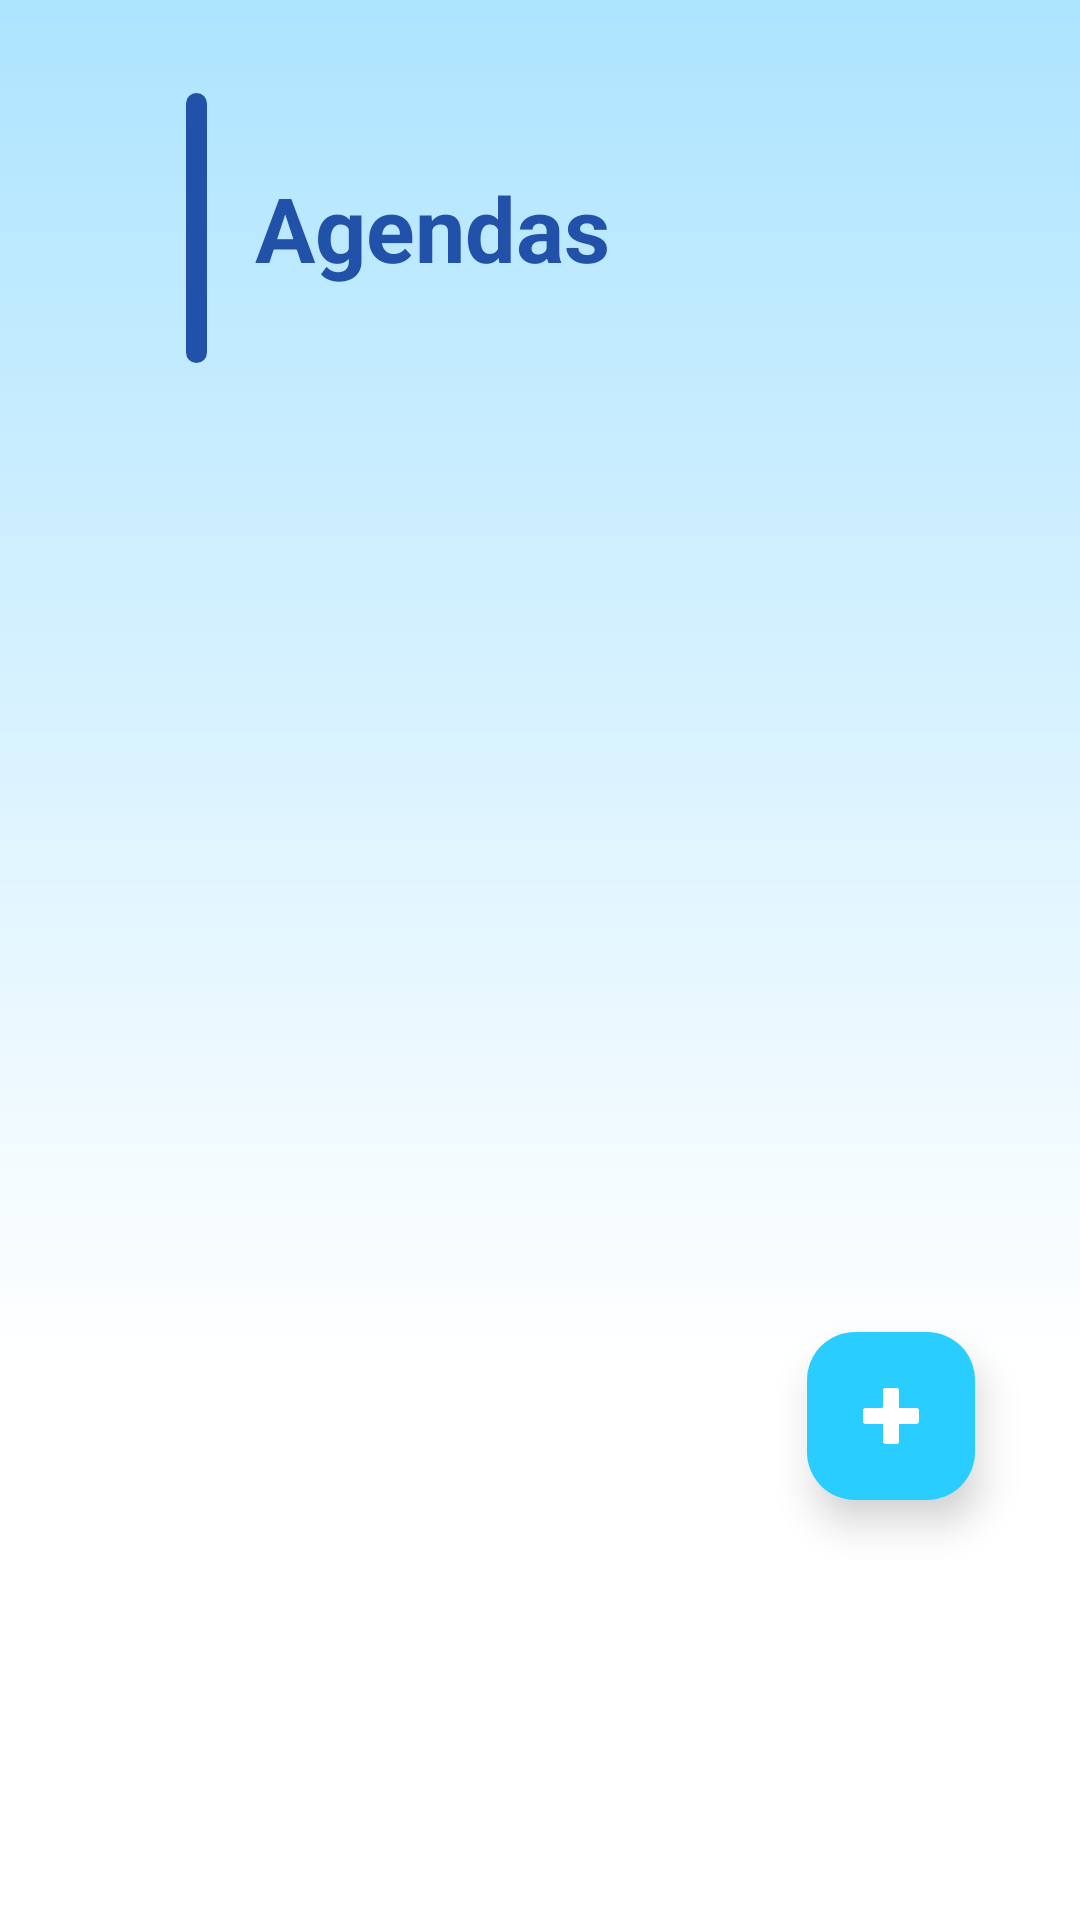

Where to tap for icons on this 1080x1920 app screen, as (x=x, y=y):
plus: (x=891, y=1416)
